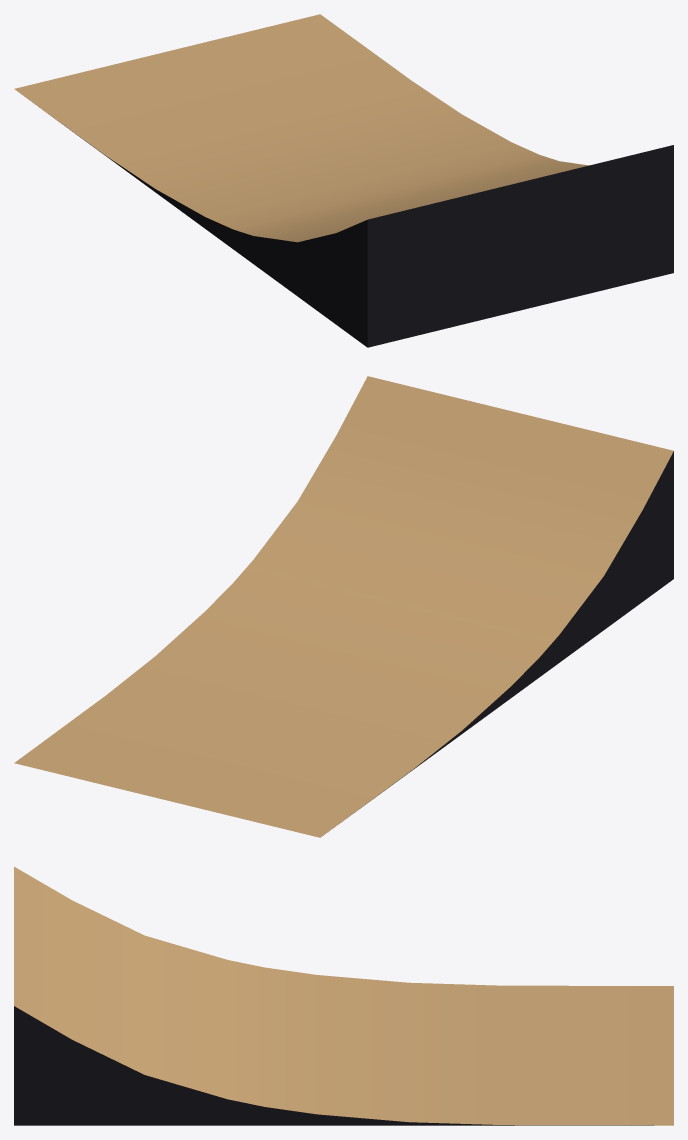
The model's file is Quater_SML_Kicker_Half.fbx.
The picture shows the model from 3 angles, top to bottom: view 1: azimuth 30°, elevation 25°; view 2: azimuth 150°, elevation 25°; view 3: azimuth 270°, elevation 25°; orthographic projection. The views are drawn at different scales.
Parts seen in each view (by area): view 1: Quater_SML_Kicker_Half; view 2: Quater_SML_Kicker_Half; view 3: Quater_SML_Kicker_Half.
Part boxes in pixels (x1,y1,x2,y2): Quater_SML_Kicker_Half: (14,14,673,347); Quater_SML_Kicker_Half: (14,376,673,837); Quater_SML_Kicker_Half: (14,866,673,1125).
Size of the model in its own units: 5 by 2 by 10.
